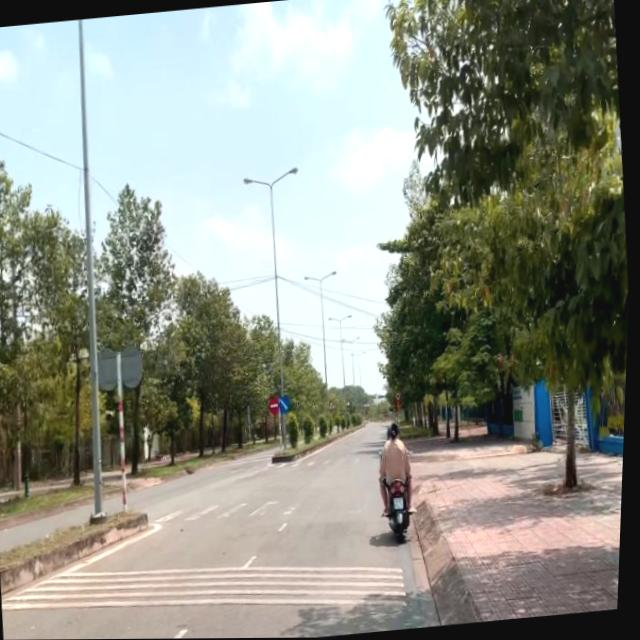Cam di nguoc chieu: (271, 396, 282, 415)
Vong chuong ngai vat sang phai: (281, 395, 293, 414)
